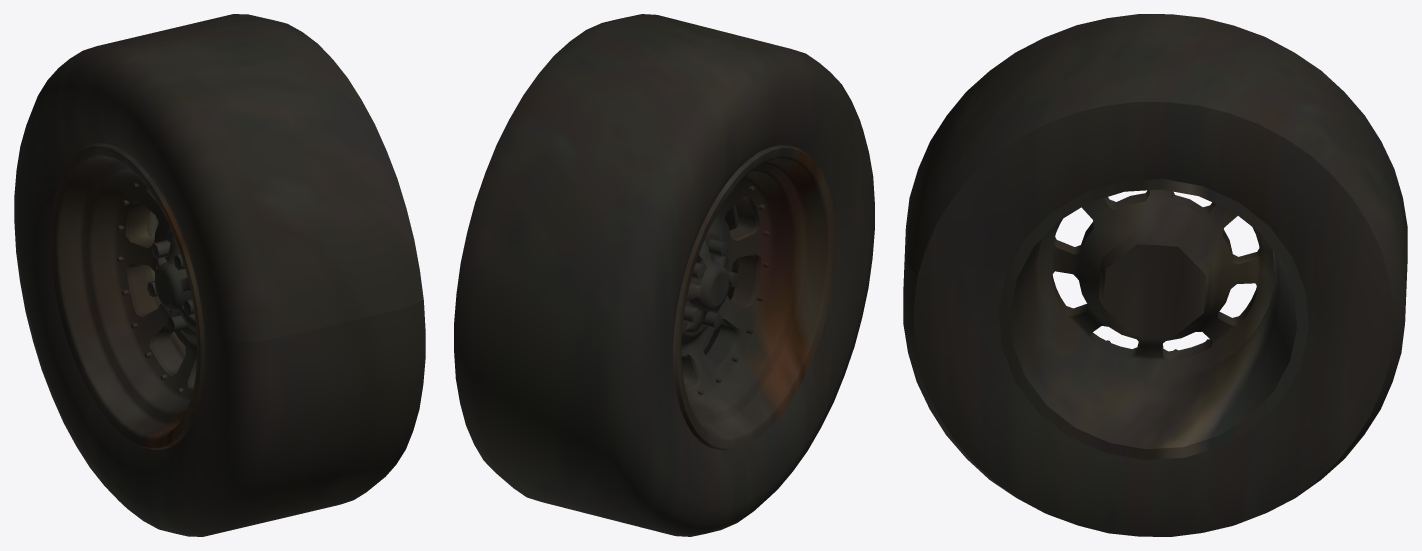
The model's file is Tire_Left.fbx.
3 views of the same model, side by side, from view 1: azimuth 30°, elevation 25°; view 2: azimuth 150°, elevation 25°; view 3: azimuth 270°, elevation 25° (orthographic).
Parts seen in each view (by area): view 1: Mesh; view 2: Mesh; view 3: Mesh.
Boxes of the visible parts, x1=… form: Mesh: x1=14, y1=14, x2=425, y2=536; Mesh: x1=454, y1=14, x2=874, y2=536; Mesh: x1=903, y1=14, x2=1407, y2=536.
Bounding box in the file's own units: 1.33 × 2.91 × 2.92.
Materials: 2 (2 with a texture image).
